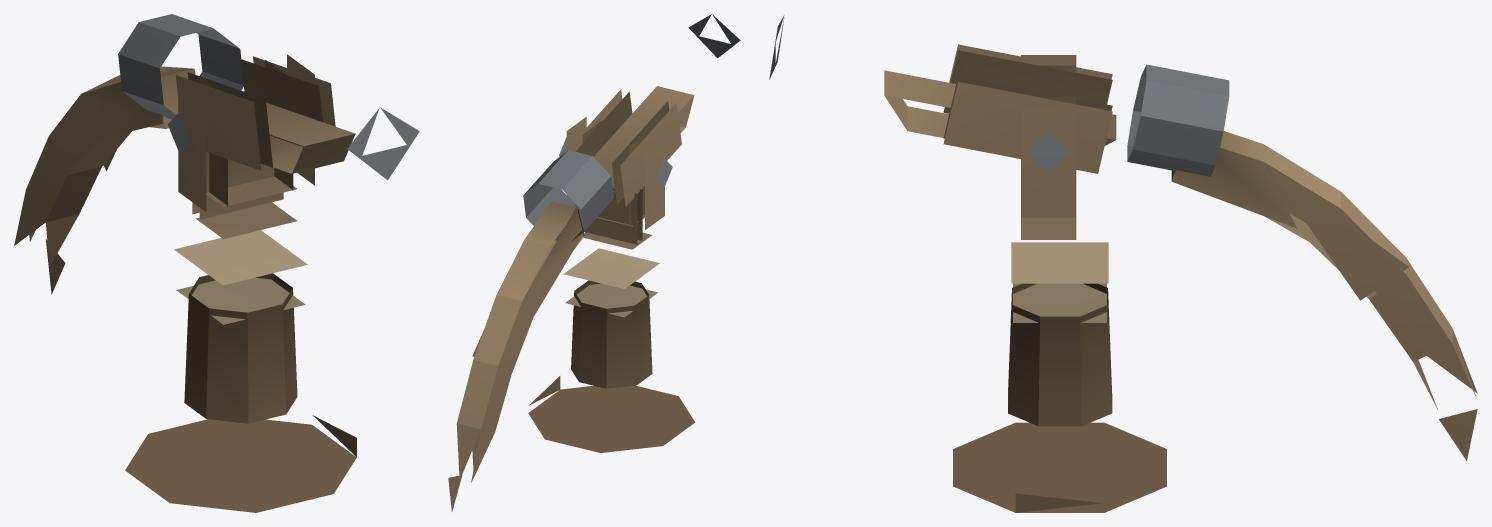
The model's file is swivel.lod.glb.
3 views of the same model, side by side, from view 1: azimuth 30°, elevation 25°; view 2: azimuth 150°, elevation 25°; view 3: azimuth 270°, elevation 25° (orthographic). The views are drawn at different scales.
Visible parts, largest first — view 1: swivel; view 2: swivel; view 3: swivel.
Boxes of the visible parts, x1,y1,x2,y2 form: swivel: [14, 14, 419, 512]; swivel: [448, 14, 740, 511]; swivel: [769, 15, 1477, 512].
Size of the model in its own units: 0.3788 by 0.8866 by 1.25.
